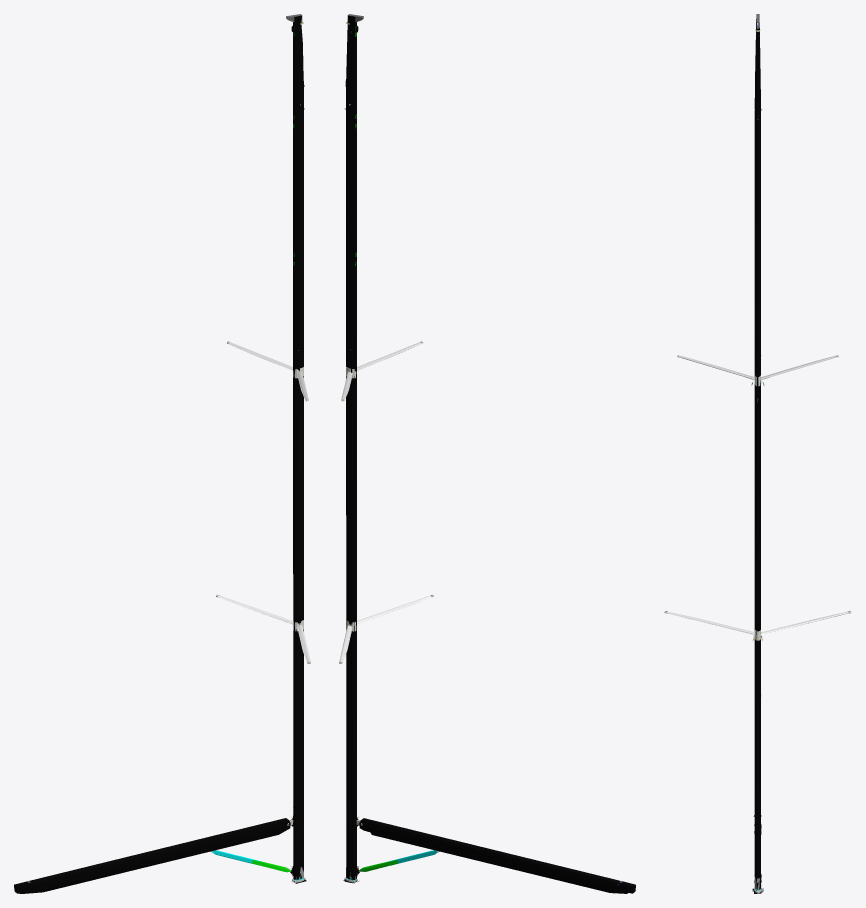
The picture shows the model from 3 angles, left to right: view 1: azimuth 30°, elevation 25°; view 2: azimuth 150°, elevation 25°; view 3: azimuth 270°, elevation 25°; orthographic projection.
Parts seen in each view (by area): view 1: c0_0_0; view 2: c0_0_0; view 3: c0_0_0, c236_241_239, c191_191_191.
Part boxes in pixels (x1,y1,x2,y2): c0_0_0: [14, 15, 306, 893]; c0_0_0: [343, 15, 635, 893]; c0_0_0: [752, 19, 763, 893]; c236_241_239: [667, 612, 848, 634]; c191_191_191: [679, 356, 835, 379].
Bounding box in the file's own units: 6606 × 18862 × 3670.
